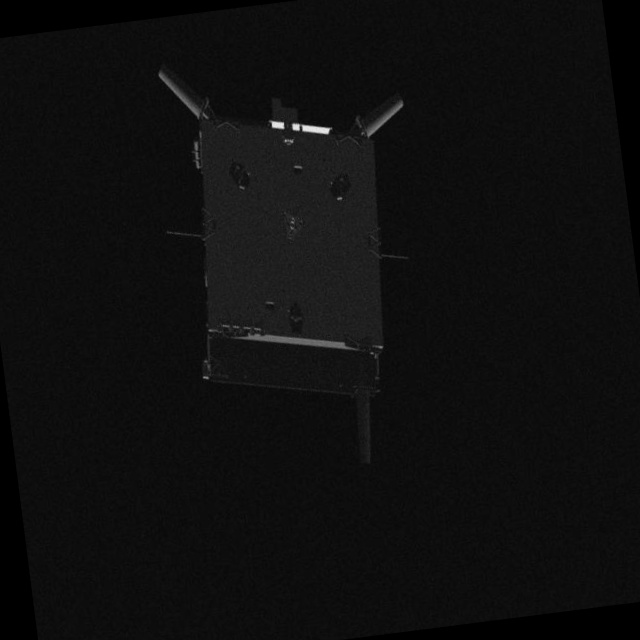satellite: (147, 36, 455, 492)
